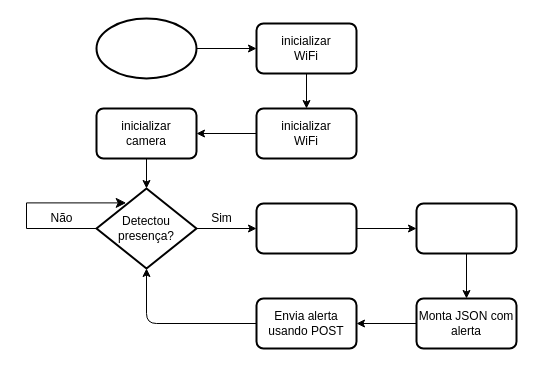
Some shapes in this 535 by 366 pixel diagram are drawn without their labels. The centre of each missing label's shape, as x and y in pixels:
Codifica a imagem usando base 64: pixel 466 228
inicializar sensor de distância: pixel 146 48
Tira uma foto: pixel 306 228
